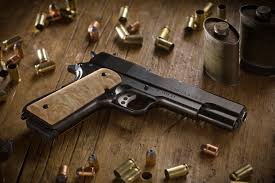gun: (21, 50, 251, 138)
